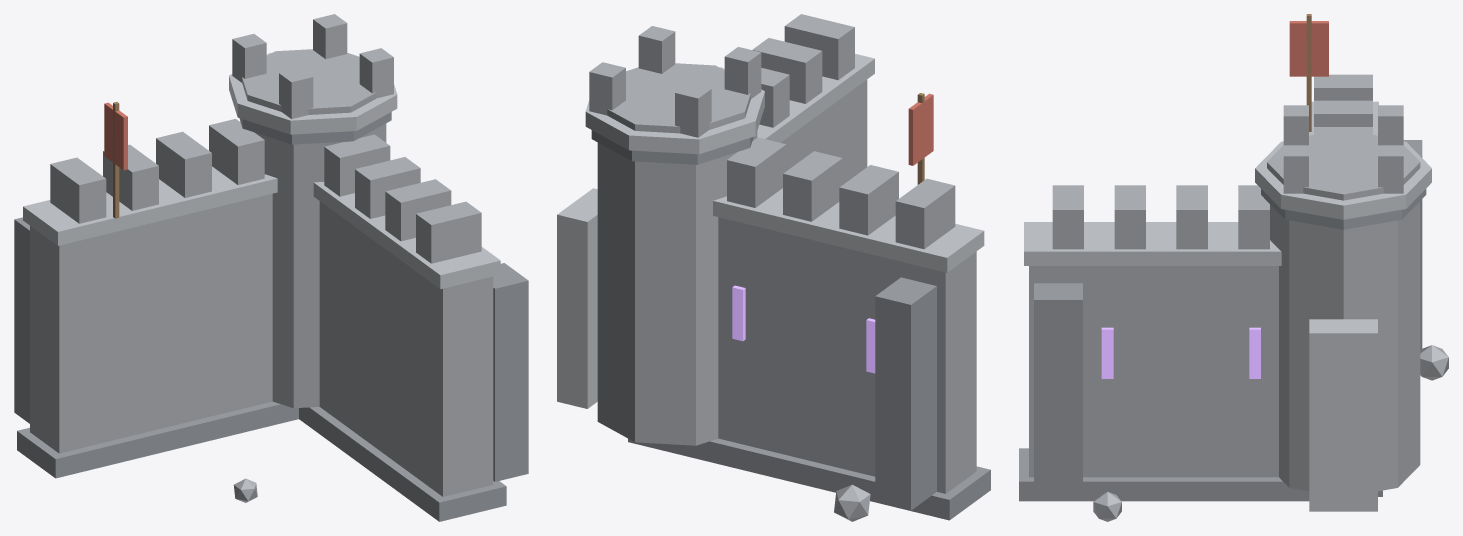
Rendered from stone_wall_corner.glb.
3 views of the same model, side by side, from view 1: azimuth 30°, elevation 25°; view 2: azimuth 150°, elevation 25°; view 3: azimuth 270°, elevation 25° (orthographic). The views are drawn at different scales.
Parts seen in each view (by area): view 1: wall_x, wall_y, corner_turret, buttress.003, base_x, coping_x, base_y, coping_y, turret_deck, wall_merlon.001, buttress.002, wall_merlon (+12 smaller); view 2: wall_x, corner_turret, buttress.002, gate_post, coping_x, base_x, wall_y, turret_deck, wall_merlon, wall_merlon.002, wall_merlon.004, wall_merlon.006 (+13 smaller); view 3: wall_y, corner_turret, gate_post, buttress.003, coping_y, base_y, turret_deck, banner.002, wall_merlon.005, wall_merlon.001, wall_merlon.003, wall_merlon.007 (+13 smaller).
Boxes of the visible parts, x1,y1,x2,y2 form: wall_x: (30, 193, 272, 453); wall_y: (319, 201, 493, 496); corner_turret: (242, 49, 386, 408); buttress.003: (493, 263, 528, 481); base_x: (17, 401, 298, 478); coping_x: (23, 166, 277, 245); base_y: (299, 407, 506, 521); coping_y: (313, 182, 500, 289); turret_deck: (229, 53, 397, 134); wall_merlon.001: (416, 201, 481, 263); buttress.002: (14, 217, 29, 423); wall_merlon: (50, 157, 106, 223); wall_x: (718, 217, 976, 493); corner_turret: (597, 63, 752, 445); buttress.002: (875, 277, 936, 510); gate_post: (557, 188, 597, 408); coping_x: (713, 188, 984, 272); base_x: (628, 438, 990, 520); wall_y: (781, 79, 867, 184); turret_deck: (585, 67, 764, 154); wall_merlon: (895, 178, 955, 249); wall_merlon.002: (839, 165, 898, 235); wall_merlon.004: (783, 151, 842, 221); wall_merlon.006: (727, 137, 786, 207); wall_y: (1029, 266, 1278, 477); corner_turret: (1267, 129, 1420, 491); gate_post: (1309, 319, 1377, 511); buttress.003: (1034, 283, 1082, 495); coping_y: (1024, 222, 1281, 265); base_y: (1019, 448, 1309, 501); turret_deck: (1255, 141, 1431, 219); banner.002: (1289, 21, 1328, 76); wall_merlon.005: (1176, 185, 1207, 249); wall_merlon.001: (1052, 185, 1083, 249); wall_merlon.003: (1114, 185, 1145, 249); wall_merlon.007: (1238, 185, 1269, 249).
Bounding box in the file's own units: 4.42 × 4.08 × 4.37.
